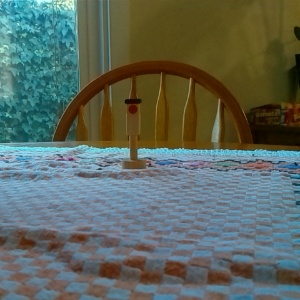traffic light red: (120, 95, 148, 171)
